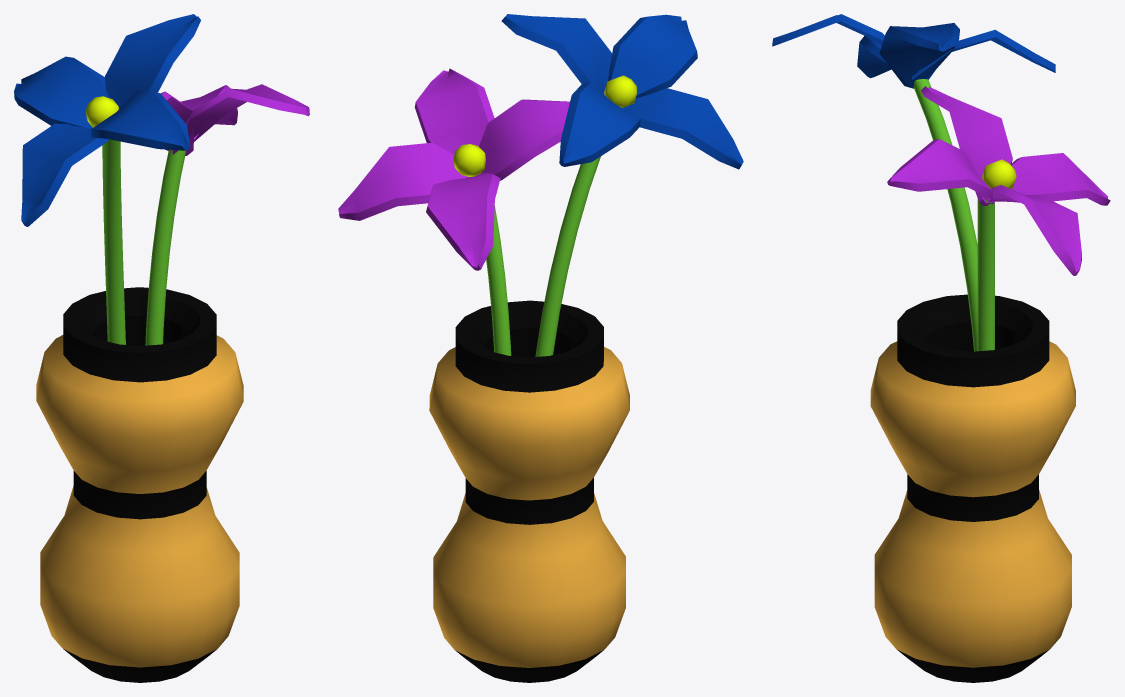
Rendered from Florero.fbx.
The picture shows the model from 3 angles, left to right: view 1: azimuth 30°, elevation 25°; view 2: azimuth 150°, elevation 25°; view 3: azimuth 270°, elevation 25°; orthographic projection. The views are drawn at different scales.
Parts seen in each view (by area): view 1: Cylinder001; view 2: Cylinder001; view 3: Cylinder001.
Part boxes in pixels (box(x1,y1,x2,y2)): Cylinder001: box(14, 14, 309, 682); Cylinder001: box(338, 14, 743, 682); Cylinder001: box(772, 14, 1110, 682).
Bounding box in the file's own units: 24.44 × 47.72 × 23.06.
